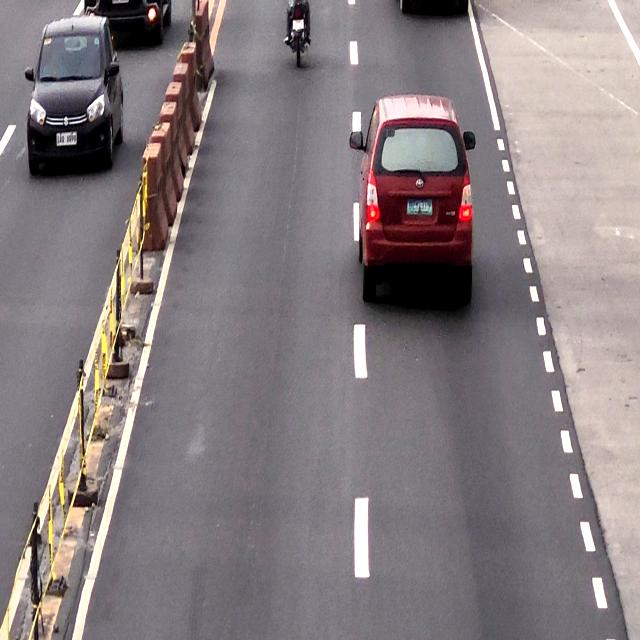Car: (359, 86, 471, 300)
License-Plate: (404, 195, 434, 216)
